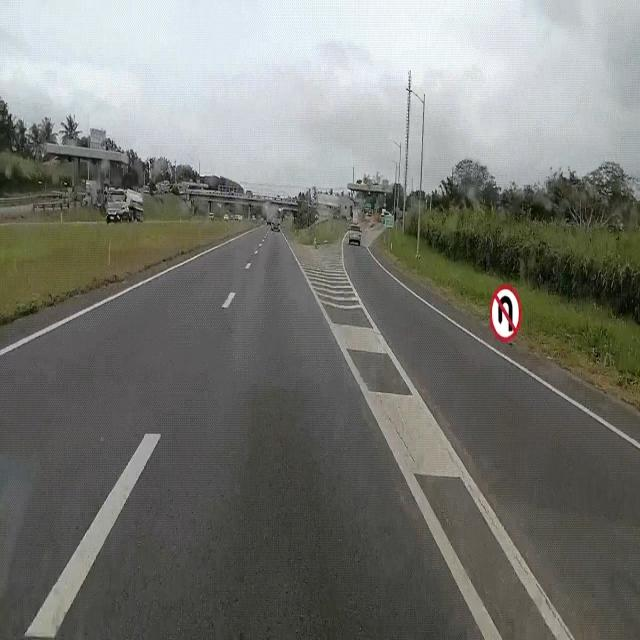Demi-Tour-Interdit: (487, 277, 525, 352)
